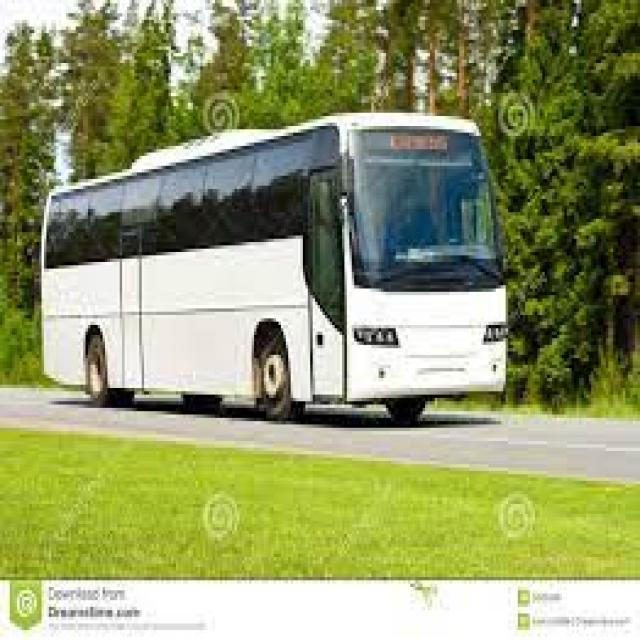BUS: (39, 106, 547, 468)
